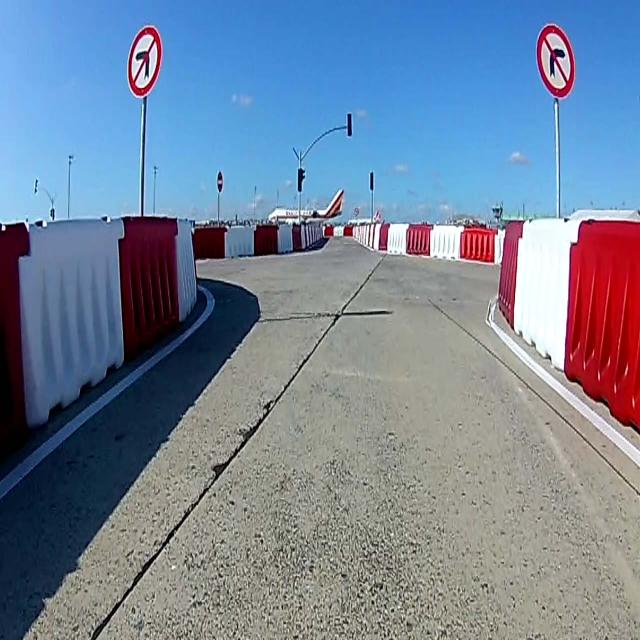sagadonulmez: (534, 22, 576, 98)
soladonulmez: (125, 27, 165, 95)
